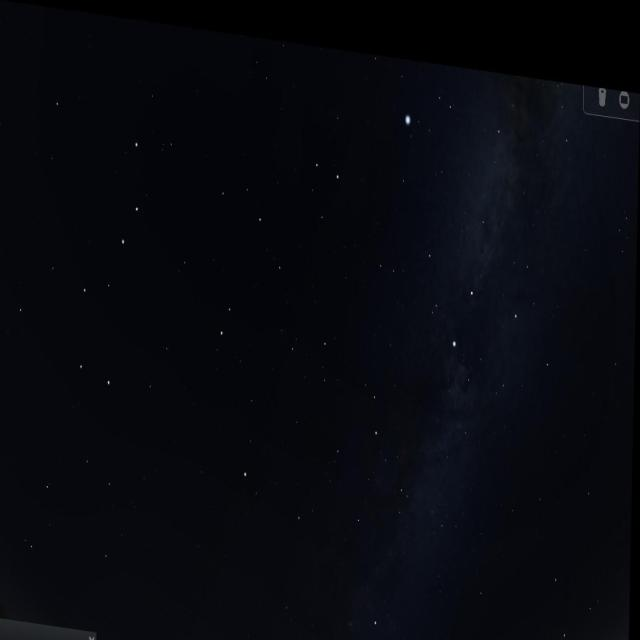cassiopeia: (308, 578, 393, 640)
cygnus: (427, 140, 522, 357)
ursa_major: (66, 113, 160, 400)
